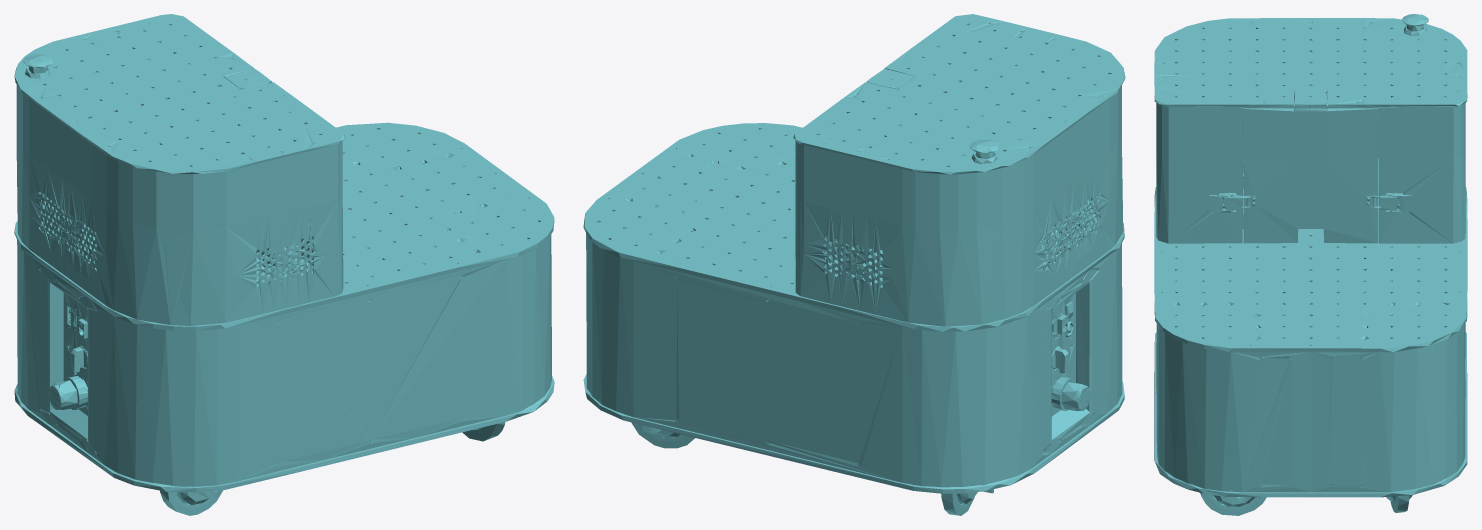
Rendered from meka_mobile_base+backpack.dae.
3 renders of one model, left to right at view 1: azimuth 30°, elevation 25°; view 2: azimuth 150°, elevation 25°; view 3: azimuth 270°, elevation 25°, orthographic. The views are drawn at different scales.
Visible parts, largest first — view 1: MB1_00_000_meka_mobile_base_backpack_zlift; view 2: MB1_00_000_meka_mobile_base_backpack_zlift; view 3: MB1_00_000_meka_mobile_base_backpack_zlift.
Boxes of the visible parts, box(x1,y1,x2,y2) form: MB1_00_000_meka_mobile_base_backpack_zlift: box(14, 14, 554, 515); MB1_00_000_meka_mobile_base_backpack_zlift: box(583, 14, 1125, 515); MB1_00_000_meka_mobile_base_backpack_zlift: box(1154, 14, 1467, 515).
Bounding box in the file's own units: 0.6908 × 0.465 × 0.5707.
